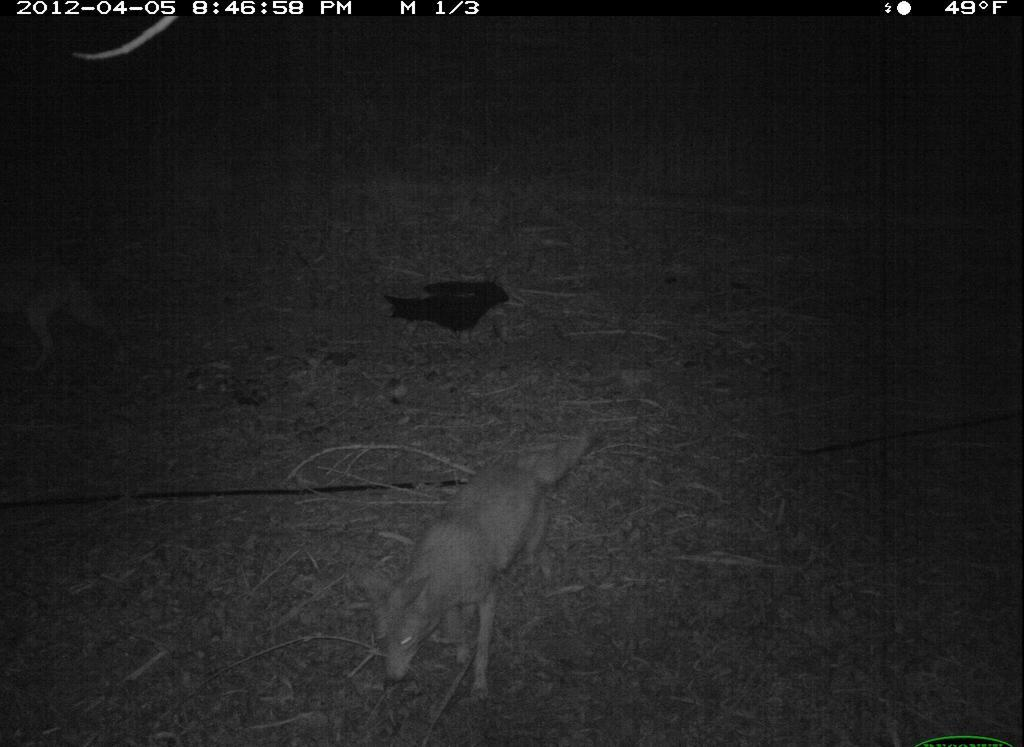coyote: (352, 409, 617, 713)
